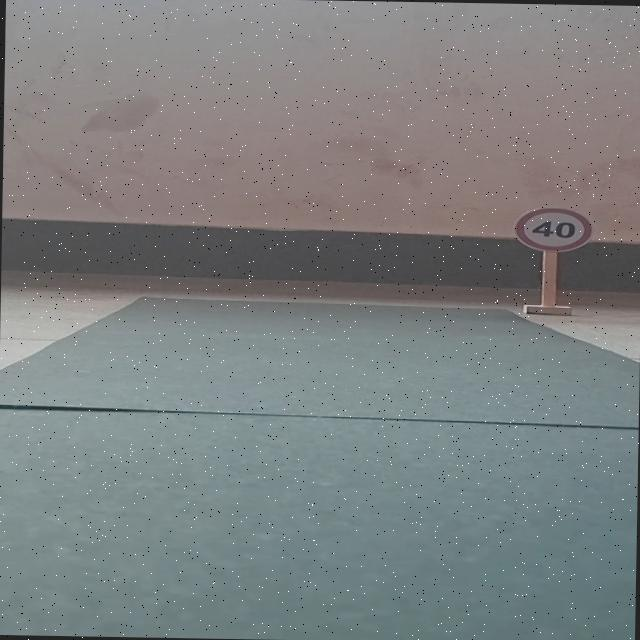Speed40: (510, 202, 598, 256)
